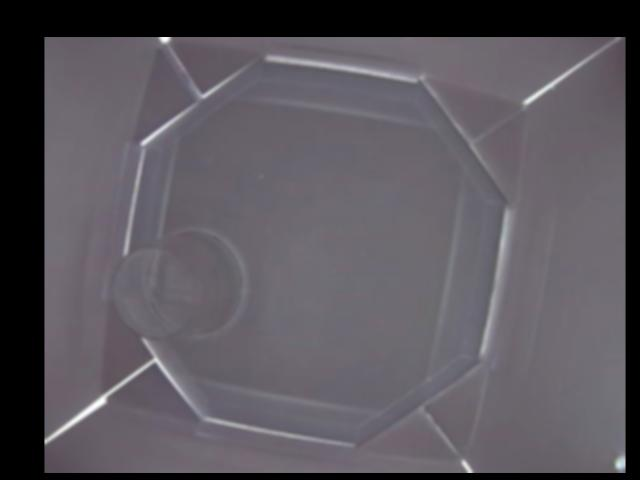Cup: (117, 228, 249, 339)
